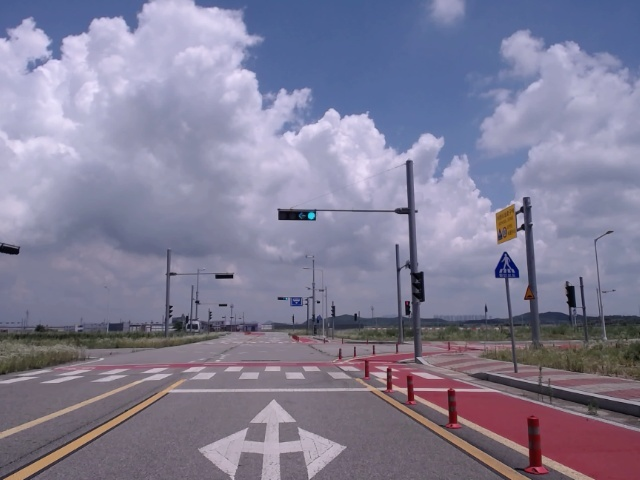all_green_4: (278, 208, 316, 221)
